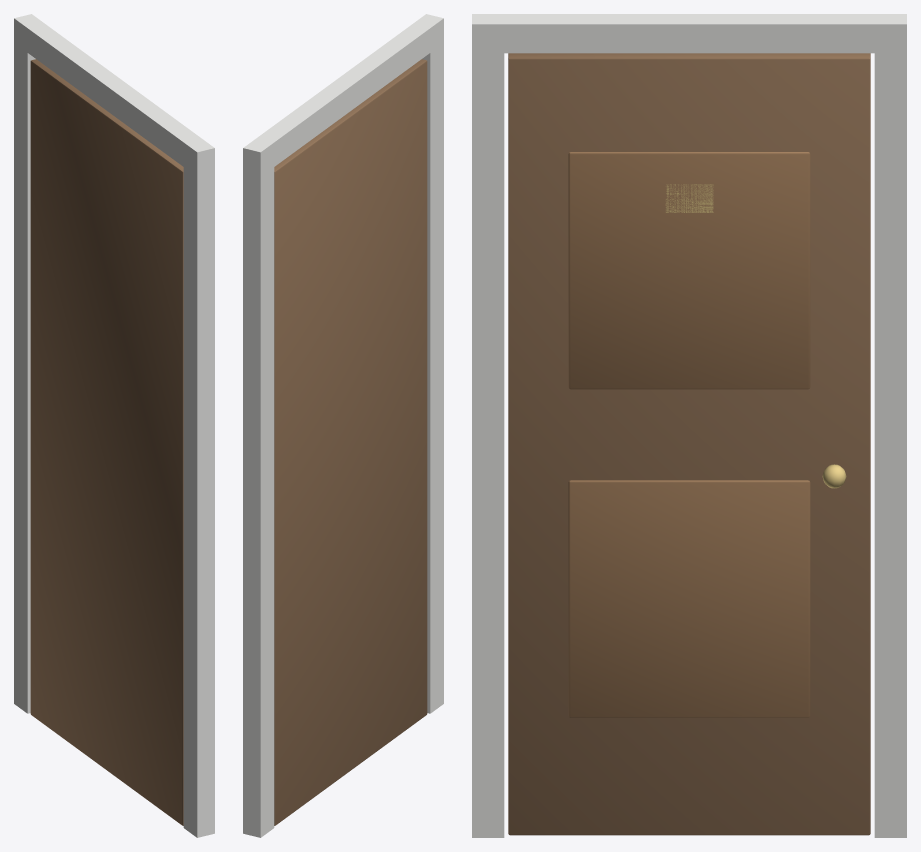
File: SM_HotelDoor.fbx
3 renders of one model, left to right at view 1: azimuth 30°, elevation 25°; view 2: azimuth 150°, elevation 25°; view 3: azimuth 270°, elevation 25°, orthographic. The views are drawn at different scales.
Parts seen in each view (by area): view 1: SM_HotelDoor; view 2: SM_HotelDoor; view 3: SM_HotelDoor.
Part boxes in pixels (x1=…): SM_HotelDoor: x1=14, y1=14, x2=214, y2=837; SM_HotelDoor: x1=243, y1=14, x2=443, y2=837; SM_HotelDoor: x1=472, y1=14, x2=906, y2=837.
Size of the model in its own units: 11 by 223 by 108.
